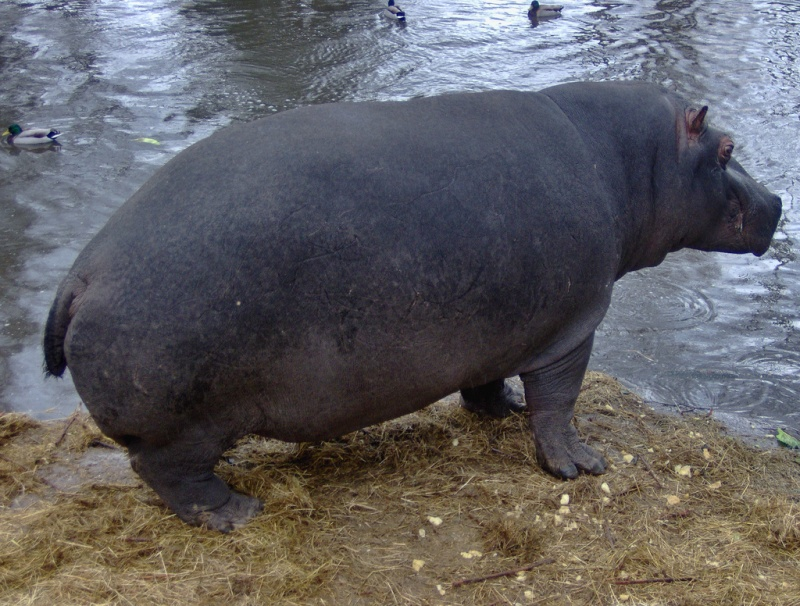hipopotamo: (39, 79, 783, 517)
